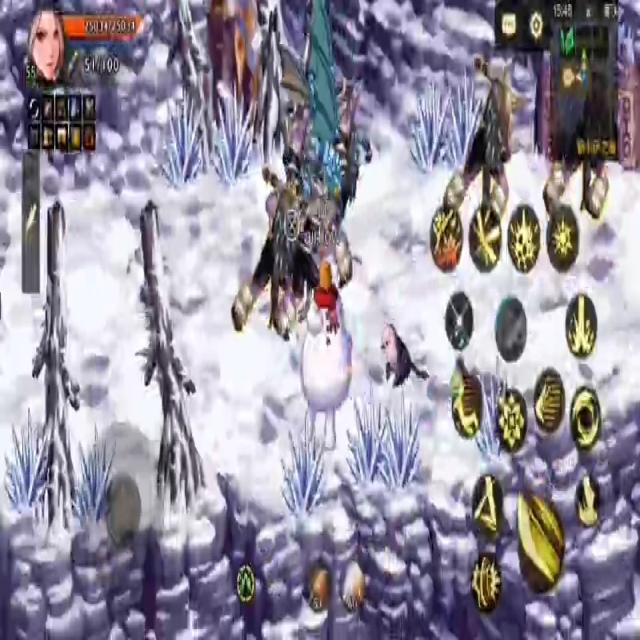player: (303, 258, 352, 458)
